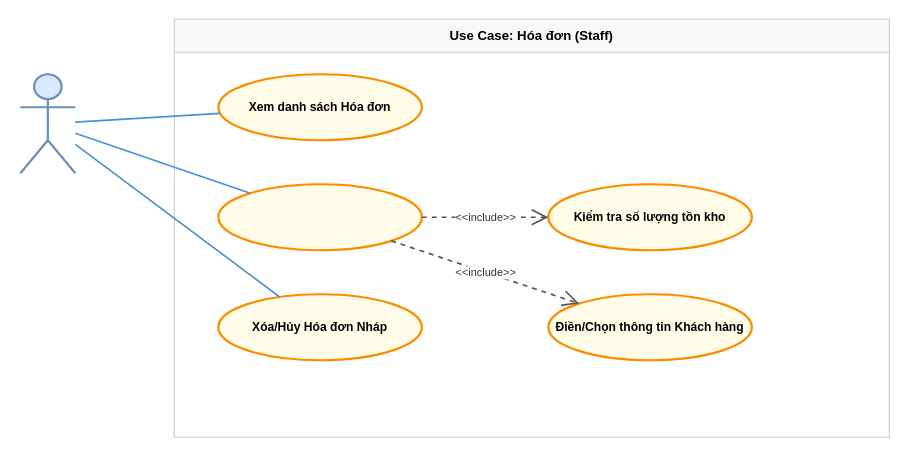
This 909x457 diagram has some shape labels left out. The centre of each missing label's shape, as x and y in pixels:
"Lập Hóa đơn xuất hàng" goes at point (319, 217).
"Staff" goes at point (47, 123).
